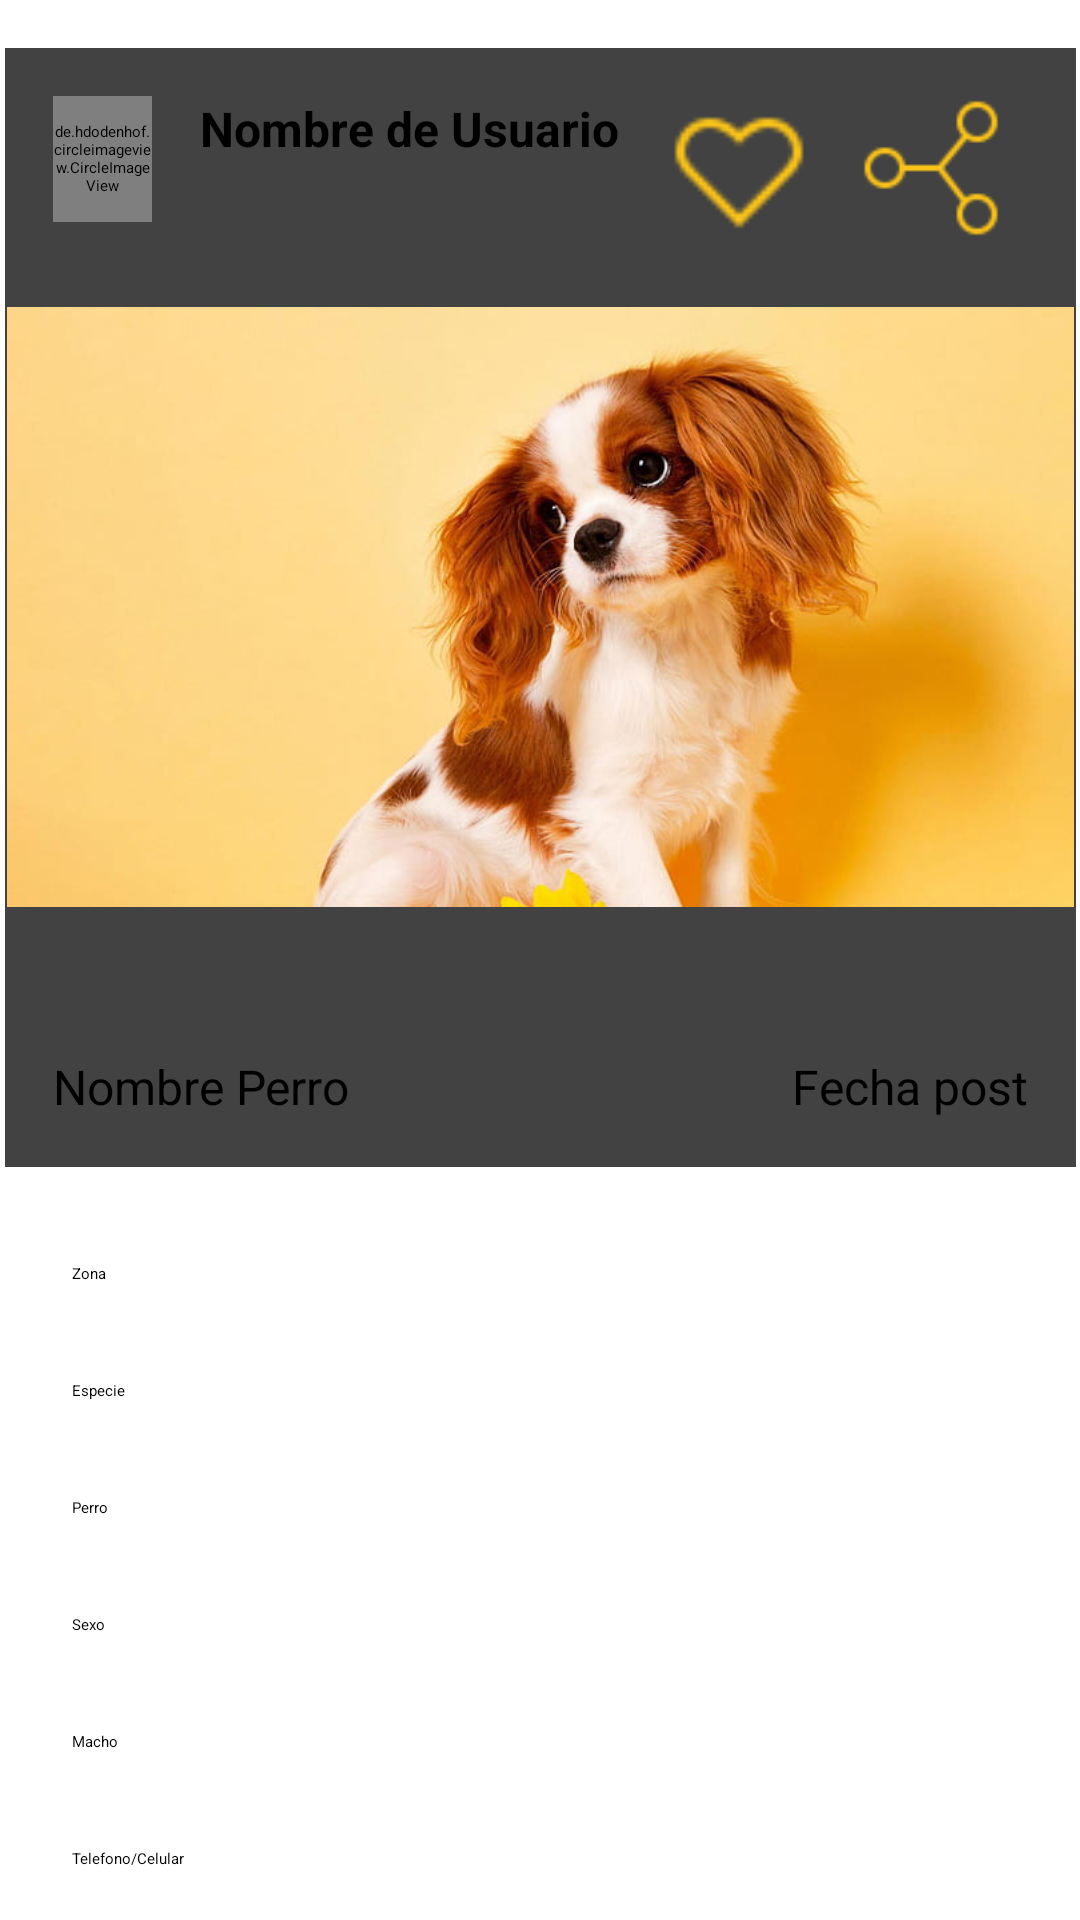

Named icons in this screenshot (1080px×1920px) and their bounding boxes, (x1,y1,x2,y2):
love: (674,117,804,228)
share: (864,101,998,235)
